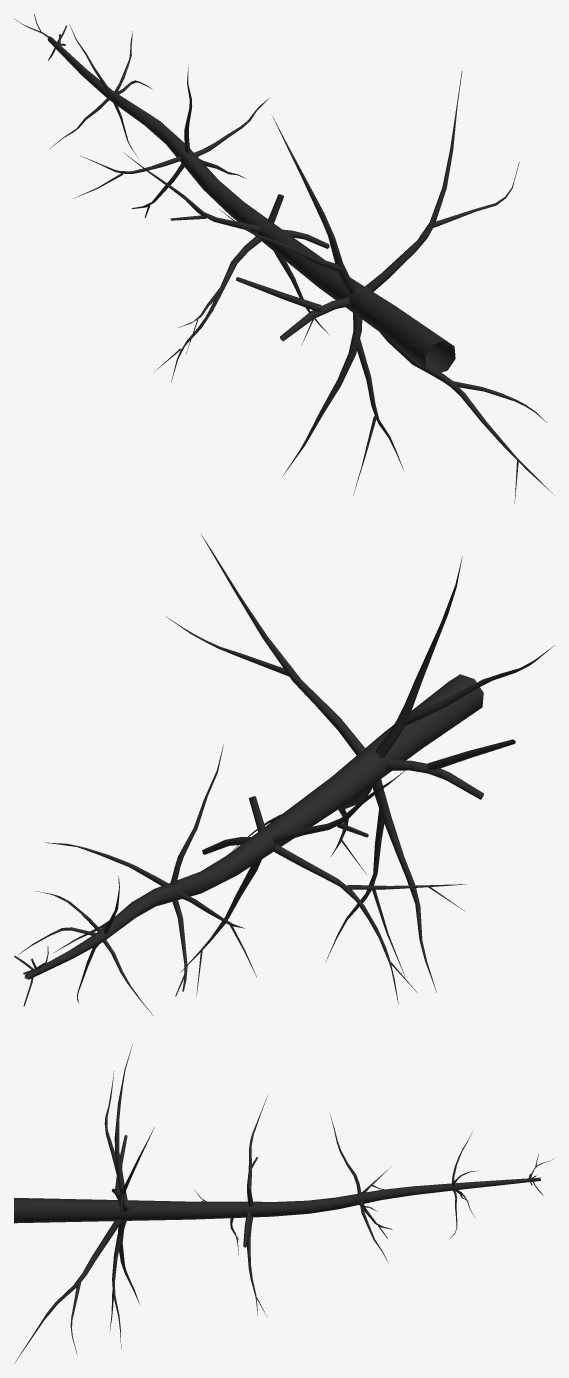
File: burnedTree.fbx
3 renders of one model, top to bottom at view 1: azimuth 30°, elevation 25°; view 2: azimuth 150°, elevation 25°; view 3: azimuth 270°, elevation 25°, orthographic. The views are drawn at different scales.
Parts seen in each view (by area): view 1: tree; view 2: tree; view 3: tree.
Boxes of the visible parts, x1,y1,x2,y2 form: tree: (14,14,554,503); tree: (14,534,554,1015); tree: (14,1044,553,1363).
Bounding box in the file's own units: 478 × 559 × 1028.
Materials: 1 (1 with a texture image).
